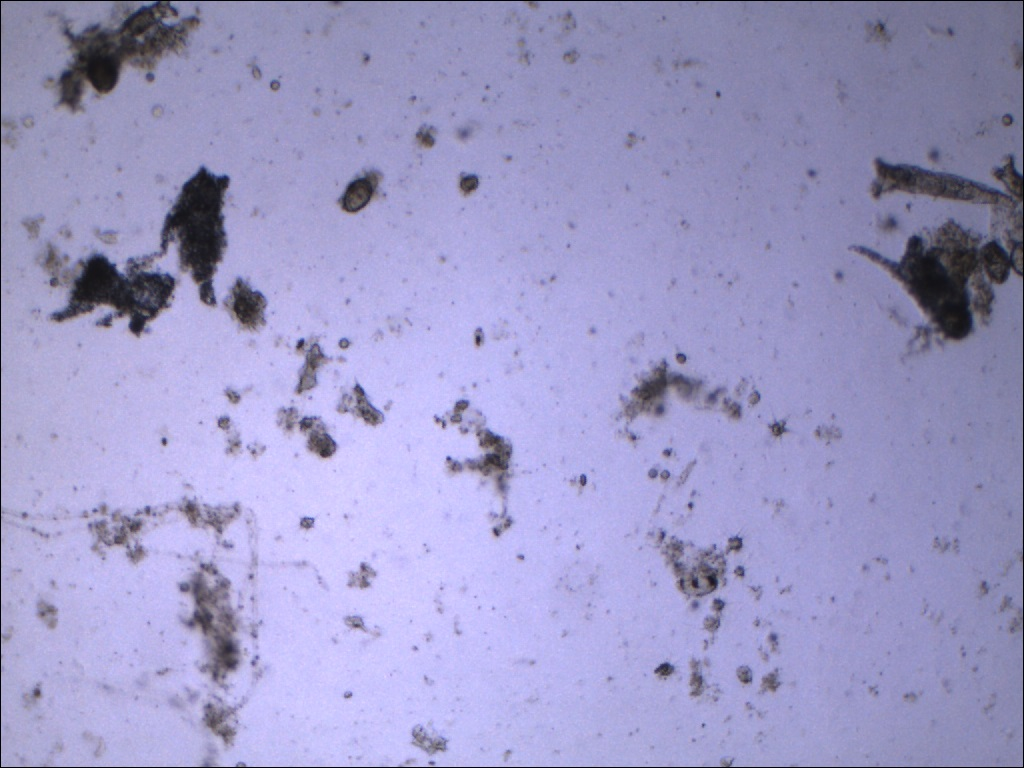amoeba: (835, 224, 975, 342), (41, 247, 181, 342), (158, 163, 233, 310)
